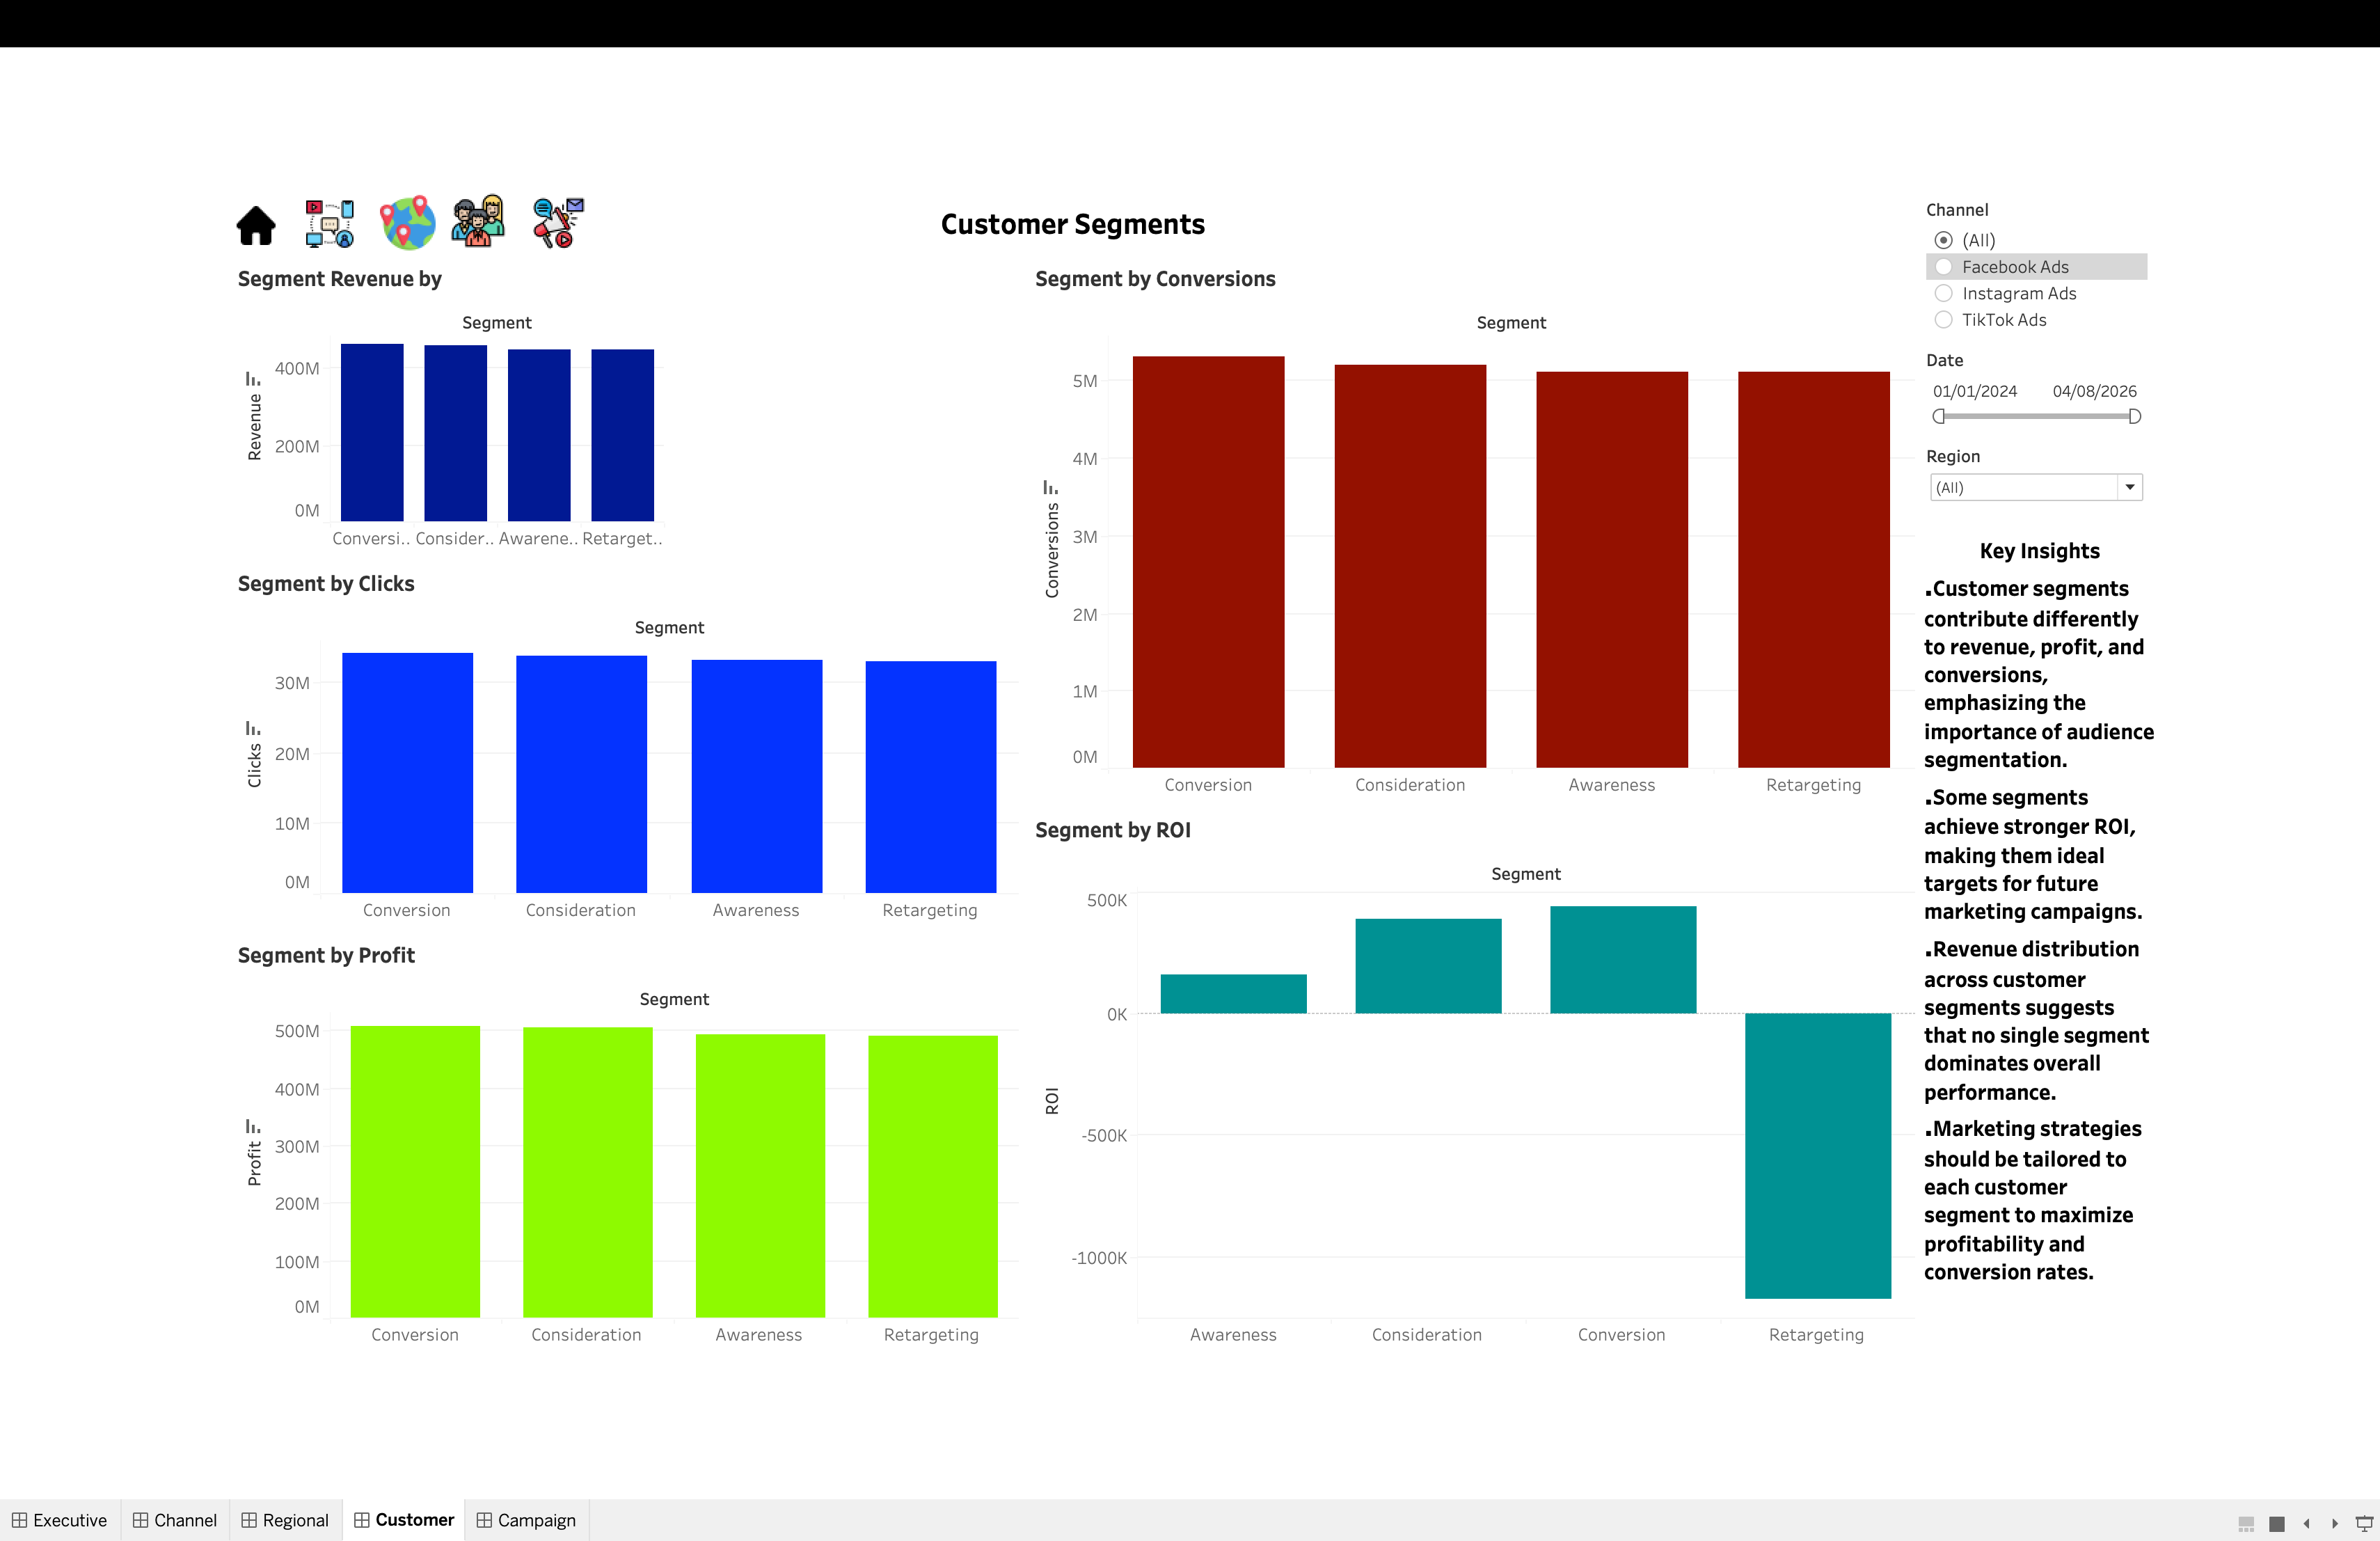

This screenshot's page, from the dashboard's own definition file:
{"tool":"tableau","page":{"name":"Customer","canvas":[1400,850],"ordinal":2},"visuals":[{"type":"text","box":[8,8,1217,43]},{"type":"filter","title":"Sheet 24","param":"[federated.07482ca1xi3uup1bdd56w1jny0fc].[none:channel:nk]","box":[1225,8,167,108]},{"type":"dashboard-object","box":[118,9,40,42]},{"type":"dashboard-object","box":[162,9,54,39]},{"type":"dashboard-object","box":[228,12,37,37]},{"type":"dashboard-object","box":[63,14,38,34]},{"type":"dashboard-object","box":[14,18,30,28]},{"type":"worksheet","title":"Sheet 24","mark":"Automatic","rows":["revenue"],"cols":["segment"],"box":[8,51,573.3,218.9]},{"type":"worksheet","title":"Sheet 25","mark":"Bar","rows":["conversions"],"cols":["segment"],"box":[581.3,51,643.7,395.5]},{"type":"legend","title":"Sheet 24","param":"[federated.07482ca1xi3uup1bdd56w1jny0fc].[none:segment:nk]","box":[274,77,196,135]},{"type":"filter","title":"Sheet 24","param":"[federated.07482ca1xi3uup1bdd56w1jny0fc].[none:date:qk]","box":[1225,116,167,69]},{"type":"filter","title":"Sheet 24","param":"[federated.07482ca1xi3uup1bdd56w1jny0fc].[none:region:nk]","box":[1225,185,167,52]},{"type":"text","box":[1225,255,172,557]},{"type":"worksheet","title":"Sheet 28","mark":"Automatic","rows":["clicks"],"cols":["segment"],"box":[8,269.9,573.3,267.4]},{"type":"worksheet","title":"Sheet 27","mark":"Bar","rows":["ROI"],"cols":["segment"],"box":[581.3,446.5,643.7,395.5]},{"type":"worksheet","title":"Sheet 26","mark":"Automatic","rows":["Profit"],"cols":["segment"],"box":[8,537.3,573.3,304.7]}]}

Visuals, with their boxes on the page's 1400x850 design canvas (x1, y1, x2, y2). These are canvas units, not pixel positions in the 2380x1541 screenshot, which may show the page scaled, cropped or inside an application window:
text: 8:8:1225:51
"Sheet 24" filter: 1225:8:1392:116
dashboard-object: 118:9:158:51
dashboard-object: 162:9:216:48
dashboard-object: 228:12:265:49
dashboard-object: 63:14:101:48
dashboard-object: 14:18:44:46
"Sheet 24" worksheet: 8:51:581:270
"Sheet 25" worksheet (Bar marks): 581:51:1225:446
"Sheet 24" legend: 274:77:470:212
"Sheet 24" filter: 1225:116:1392:185
"Sheet 24" filter: 1225:185:1392:237
text: 1225:255:1397:812
"Sheet 28" worksheet: 8:270:581:537
"Sheet 27" worksheet (Bar marks): 581:446:1225:842
"Sheet 26" worksheet: 8:537:581:842
